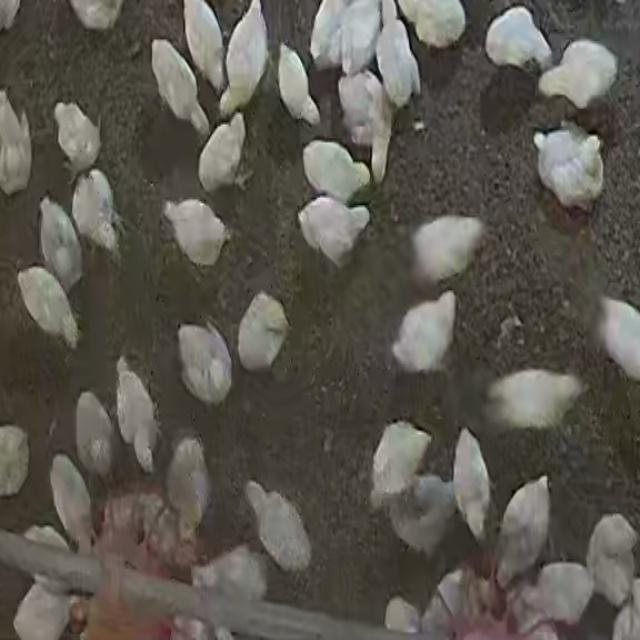chicken: (491, 471, 552, 588), (244, 479, 315, 573), (482, 367, 584, 432), (533, 122, 605, 212), (160, 192, 235, 274), (540, 36, 621, 111), (150, 39, 210, 138), (16, 265, 80, 354), (392, 290, 458, 376), (45, 450, 102, 549), (295, 193, 372, 266), (222, 0, 270, 115), (410, 214, 488, 284), (450, 424, 496, 540), (370, 421, 431, 508), (116, 362, 161, 475), (300, 135, 374, 203), (175, 319, 232, 407), (375, 1, 421, 110), (483, 4, 553, 72), (194, 110, 252, 192), (71, 170, 122, 262), (164, 438, 210, 538), (38, 197, 85, 294), (236, 292, 290, 374), (73, 387, 119, 480), (182, 0, 227, 92), (52, 98, 102, 176), (277, 44, 321, 126)
